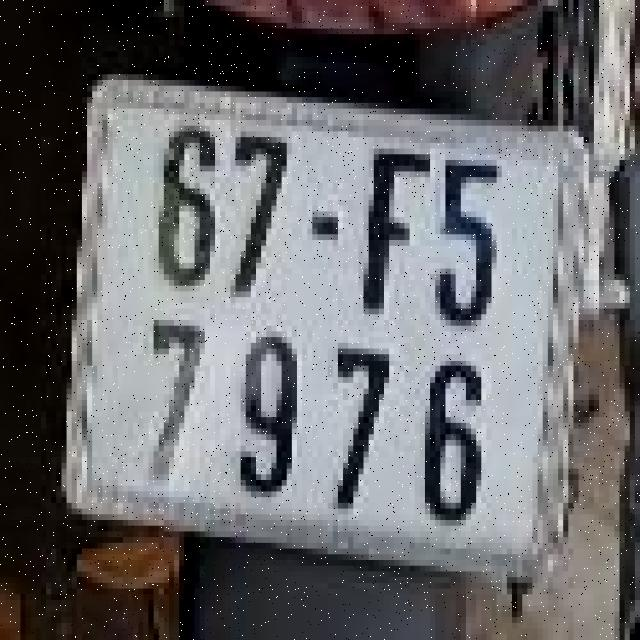5: (440, 137, 512, 337)
6: (136, 117, 222, 294), (409, 348, 492, 526)
7: (136, 306, 212, 488), (228, 120, 294, 303), (335, 323, 392, 528)
9: (236, 328, 307, 506)
F: (350, 132, 438, 332)
